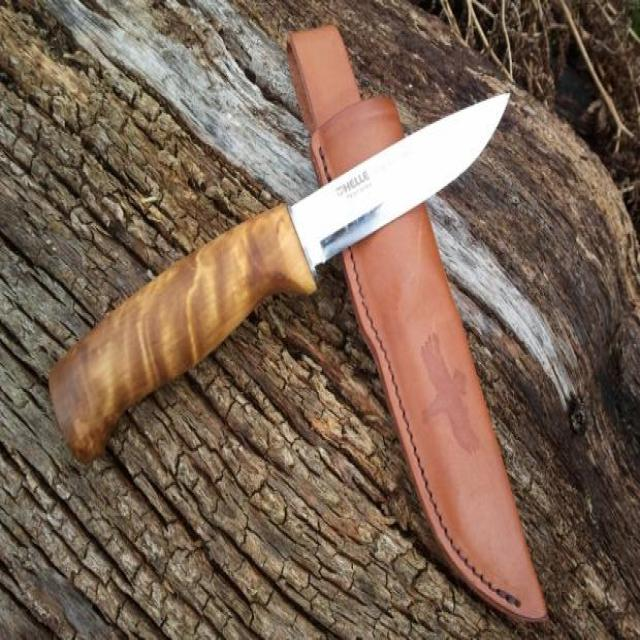knife: (48, 90, 514, 468)
